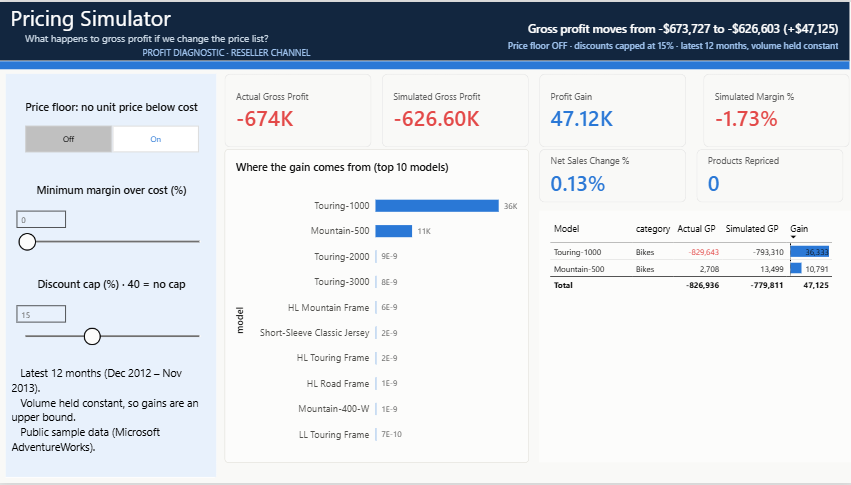

The dashboard page shown, as its layout file describes it:
{"tool":"powerbi","page":{"name":"Pricing Simulator","canvas":[1280,720],"ordinal":0},"visuals":[{"type":"shape","box":[0,0,1273,88],"z":0},{"type":"textbox","box":[214.2,66.2,274.6,21.4],"z":1000},{"type":"shape","box":[8.5,107.3,315.5,604],"z":1000,"group":"g1"},{"type":"cardVisual","fields":{"Data":["_Measures.Headline"]},"box":[712.8,11.7,560.9,54.5],"z":2000},{"type":"slicer","title":"   Minimum margin over cost (%)","fields":{"Values":[" Floor Margin. Floor Margin"]},"box":[17.8,270.3,299.9,109.1],"z":2000,"group":"g1"},{"type":"cardVisual","fields":{"Data":["_Measures.Scenario Description"]},"box":[560.9,52.6,712.8,25.3],"z":3000},{"type":"slicer","title":"   Discount cap (%) · 40 = no cap","fields":{"Values":["Discount Cap.Discount Cap"]},"box":[17.8,411.7,299.9,114.9],"z":3000,"group":"g1"},{"type":"shape","box":[0,88,1273,12],"z":4000},{"type":"textbox","box":[15,2,500.5,44.8],"z":5000},{"type":"textbox","box":[37,44.8,600,26],"z":6000},{"type":"cardVisual","fields":{"Data":["_Measures.Actual Gross Profit"]},"box":[336,108,220,110],"z":7000},{"type":"slicer","title":"   Price floor: no unit price below cost","fields":{"Values":["Price Floor.Apply"]},"box":[17.8,144.2,299.9,81.8],"z":7000,"group":"g1"},{"type":"cardVisual","fields":{"Data":["_Measures.Simulated Gross Profit"]},"box":[572,108,220,110],"z":8000},{"type":"textbox","box":[17.8,544.6,299.9,138.3],"z":8000,"group":"g1"},{"type":"cardVisual","fields":{"Data":["_Measures.Profit Gain"]},"box":[808,108,220,110],"z":9000},{"type":"cardVisual","fields":{"Data":["_Measures.Simulated Margin %"]},"box":[1054.5,107.3,219.8,110.7],"z":10000},{"type":"group","id":"g1","title":"Group 1","box":[8.5,107.3,315.2,604.8],"z":11000},{"type":"clusteredBarChart","title":"Where the gain comes from (top 10 models)","fields":{"Category":["Product.model"],"Y":["_Measures.Profit Gain"]},"box":[336,220,456,470],"z":11001},{"type":"cardVisual","fields":{"Data":["_Measures.Net Sales Change %"]},"box":[808,220,220,80],"z":11002},{"type":"cardVisual","fields":{"Data":["_Measures.Products Repriced"]},"box":[1044,220,220,80],"z":11003},{"type":"tableEx","fields":{"Values":["Product.model","Product.category","_Measures.Actual Gross Profit","_Measures.Simulated Gross Profit","_Measures.Profit Gain"]},"box":[807.9,312.6,471.4,377.5],"z":11004}]}

Visuals, with their boxes in screenshot pixels (x1, y1, x2, y2), scaled from the page's 1280x720 canvas onto the 851x485 screenshot:
shape: bbox=(0, 0, 846, 59)
textbox: bbox=(142, 45, 325, 59)
shape: bbox=(6, 72, 215, 479)
cardVisual - _Measures.Headline: bbox=(474, 8, 847, 45)
"   Minimum margin over cost (%)" slicer: bbox=(12, 182, 211, 256)
cardVisual - _Measures.Scenario Description: bbox=(373, 35, 847, 52)
"   Discount cap (%) · 40 = no cap" slicer: bbox=(12, 277, 211, 355)
shape: bbox=(0, 59, 846, 67)
textbox: bbox=(10, 1, 343, 32)
textbox: bbox=(25, 30, 424, 48)
cardVisual - _Measures.Actual Gross Profit: bbox=(223, 73, 370, 147)
"   Price floor: no unit price below cost" slicer: bbox=(12, 97, 211, 152)
cardVisual - _Measures.Simulated Gross Profit: bbox=(380, 73, 527, 147)
textbox: bbox=(12, 367, 211, 460)
cardVisual - _Measures.Profit Gain: bbox=(537, 73, 683, 147)
cardVisual - _Measures.Simulated Margin %: bbox=(701, 72, 847, 147)
"Group 1" group: bbox=(6, 72, 215, 480)
"Where the gain comes from (top 10 models)" clusteredBarChart: bbox=(223, 148, 527, 465)
cardVisual - _Measures.Net Sales Change %: bbox=(537, 148, 683, 202)
cardVisual - _Measures.Products Repriced: bbox=(694, 148, 840, 202)
tableEx - Product.model x Product.category: bbox=(537, 211, 850, 465)
